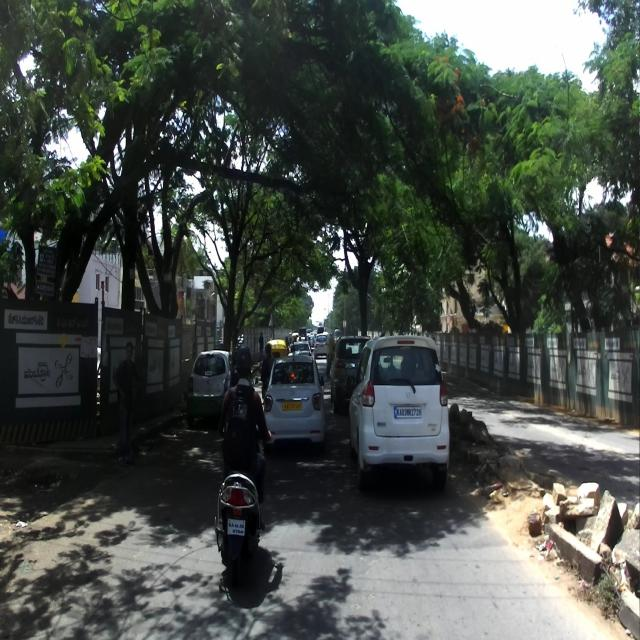Car_Hyundai: (261, 354, 326, 456)
Car_Maruti-Suzuki: (346, 334, 452, 491)
scooter: (214, 422, 271, 585)
